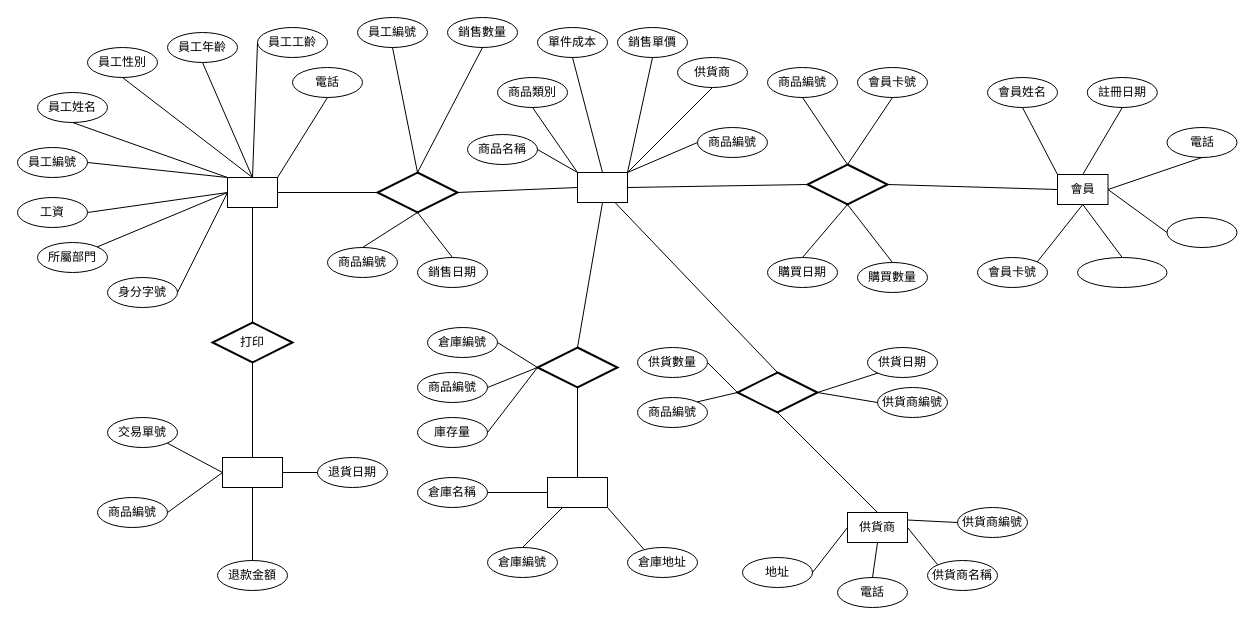
Image size: 1255x625. Some labels were removed from this diagram. Each missing label, with the centre of its shape:
"供貨" belongs at point (777, 392).
"倉庫" belongs at point (577, 492).
"員工" belongs at point (252, 192).
"商品" belongs at point (602, 187).
"庫存" belongs at point (577, 367).
"累計消費金額" belongs at point (1121, 272).
"購買" belongs at point (847, 184).
"退貨訊息" belongs at point (252, 472).
"銷售" belongs at point (417, 192).
"餘額" belongs at point (1201, 232).
